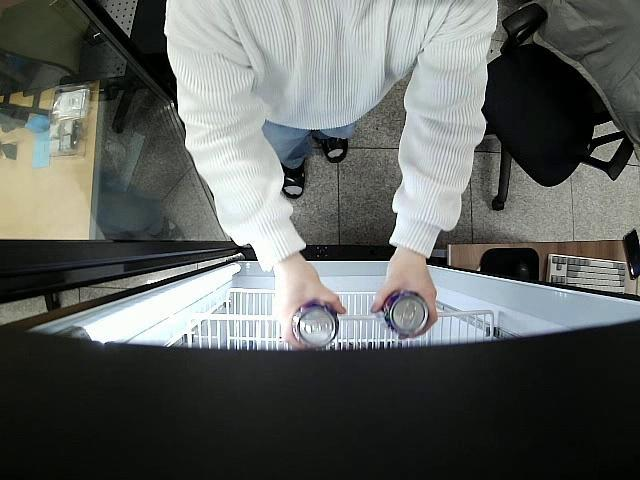14_welchsGrape: (382, 289, 430, 338), (294, 304, 340, 347)
